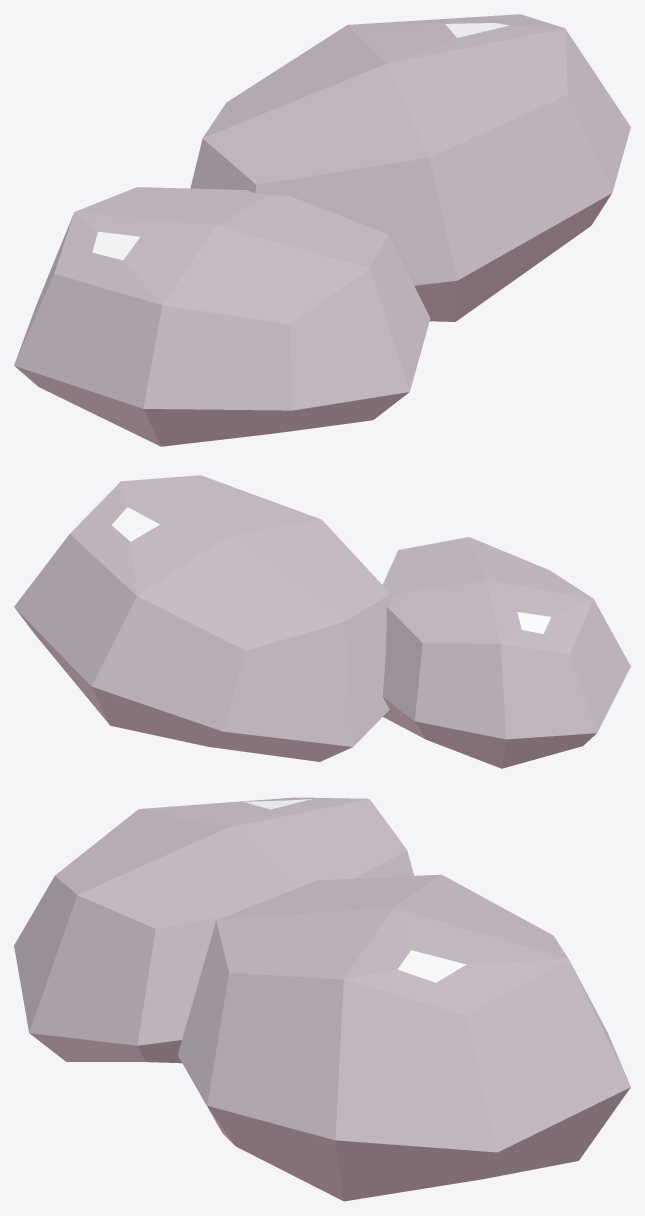
The model's file is env_two_rocks.glb.
The picture shows the model from 3 angles, top to bottom: view 1: azimuth 30°, elevation 25°; view 2: azimuth 150°, elevation 25°; view 3: azimuth 270°, elevation 25°; orthographic projection. The views are drawn at different scales.
Visible parts, largest first — view 1: Object_20, Object_22; view 2: Object_22, Object_20; view 3: Object_22, Object_20.
Part boxes in pixels (x1,y1,x2,y2): Object_20: (14, 187, 430, 446); Object_22: (190, 14, 630, 321); Object_22: (14, 475, 392, 761); Object_20: (382, 537, 630, 768); Object_22: (178, 874, 630, 1201); Object_20: (14, 797, 414, 1063).
Bounding box in the file's own units: 0.7569 × 0.275 × 0.5618.
Materials: 1 (1 with a texture image).
